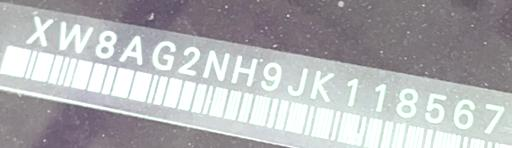letter: (57, 19, 95, 52), (24, 13, 56, 46), (202, 48, 230, 82), (230, 53, 258, 87), (309, 67, 335, 101), (118, 33, 144, 66), (395, 86, 419, 119), (452, 97, 476, 130), (481, 101, 505, 134), (152, 39, 176, 72), (424, 89, 446, 124), (177, 45, 201, 75), (287, 65, 309, 97), (95, 28, 117, 59), (260, 61, 282, 91), (344, 74, 360, 108), (374, 80, 388, 113)
